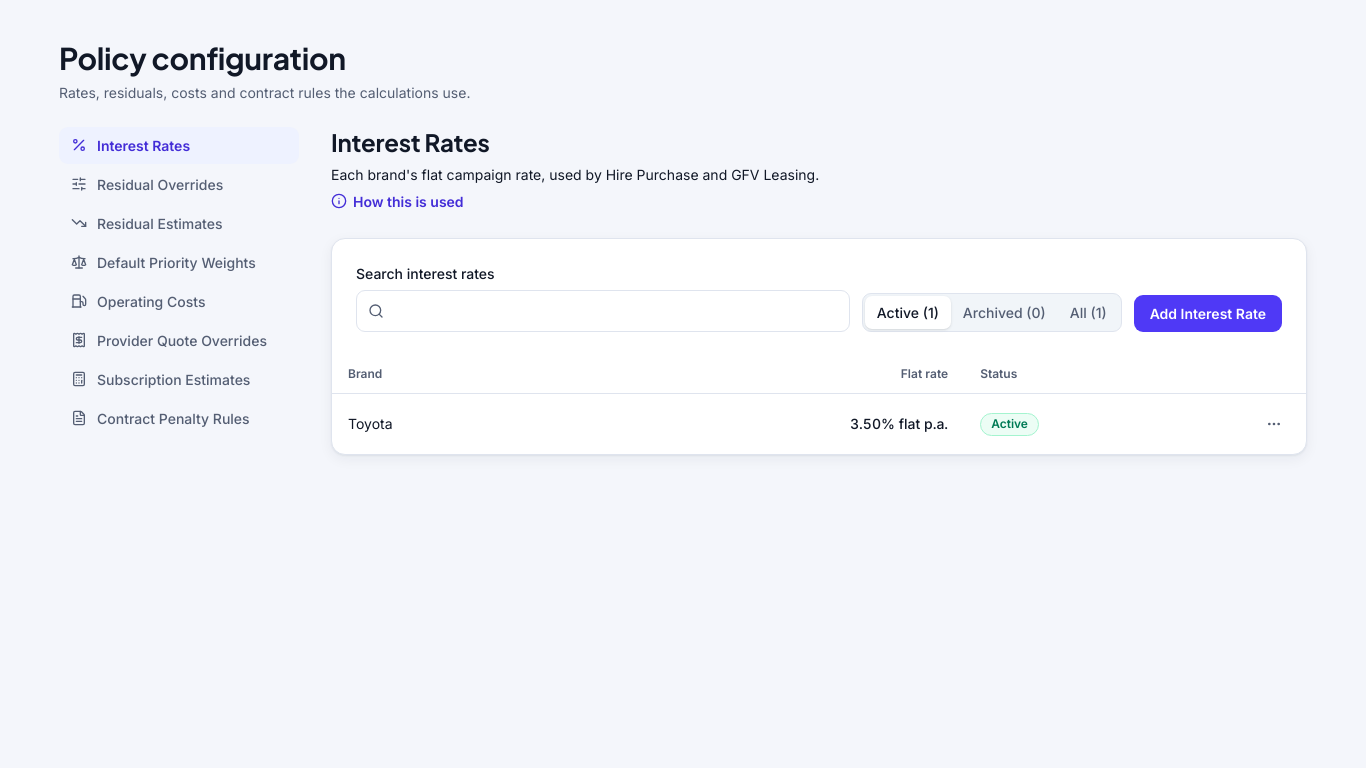
Scenario: AdminPolicyPage › on a 409 says someone else changed it and keeps the typed value
Expected: the text "3.50% flat p.a." is shown, [566, 394, 964, 454]
Redesign UI-6a: Edit is in the row's menu.
Click the button named "Actions for Toyota interest rate" at (1274, 424), box [1258, 408, 1290, 440]
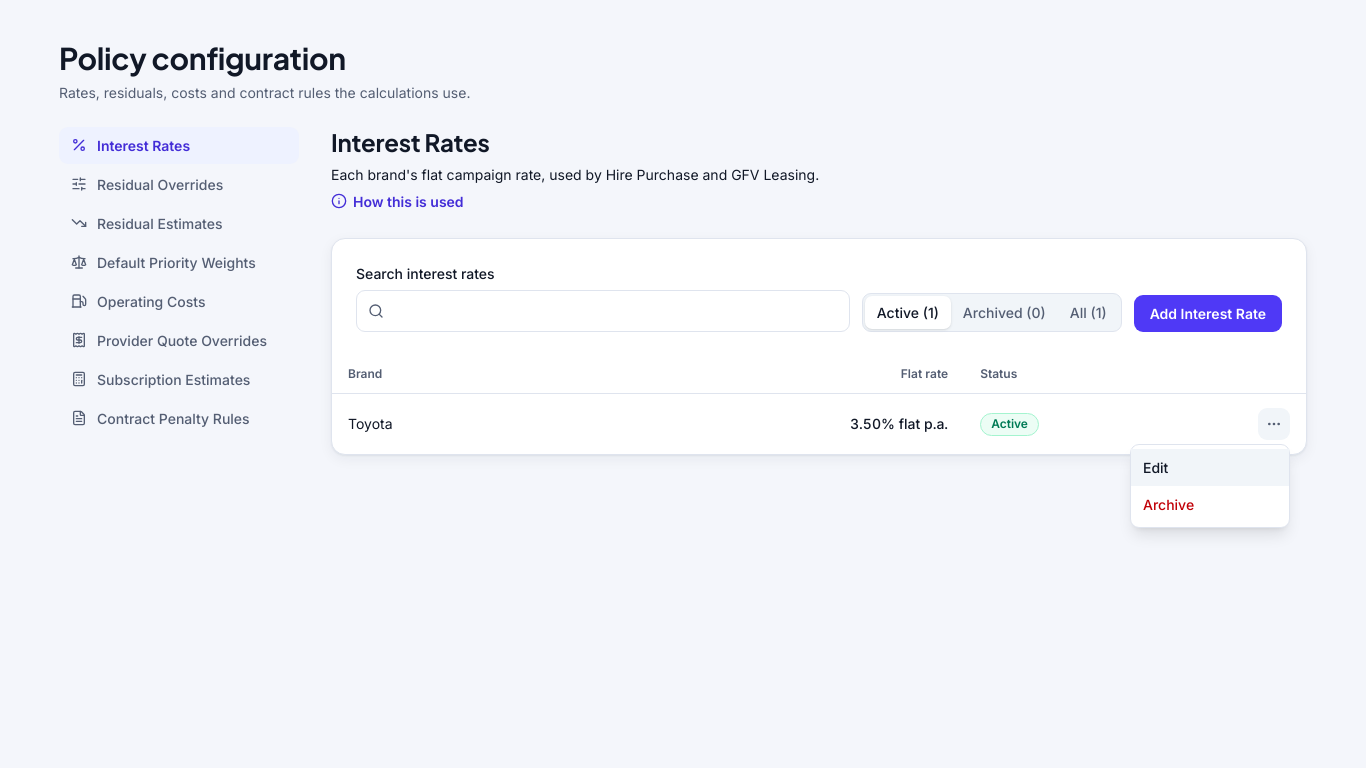
Click the menu item "Edit" at (1210, 468), box [1131, 449, 1289, 486]
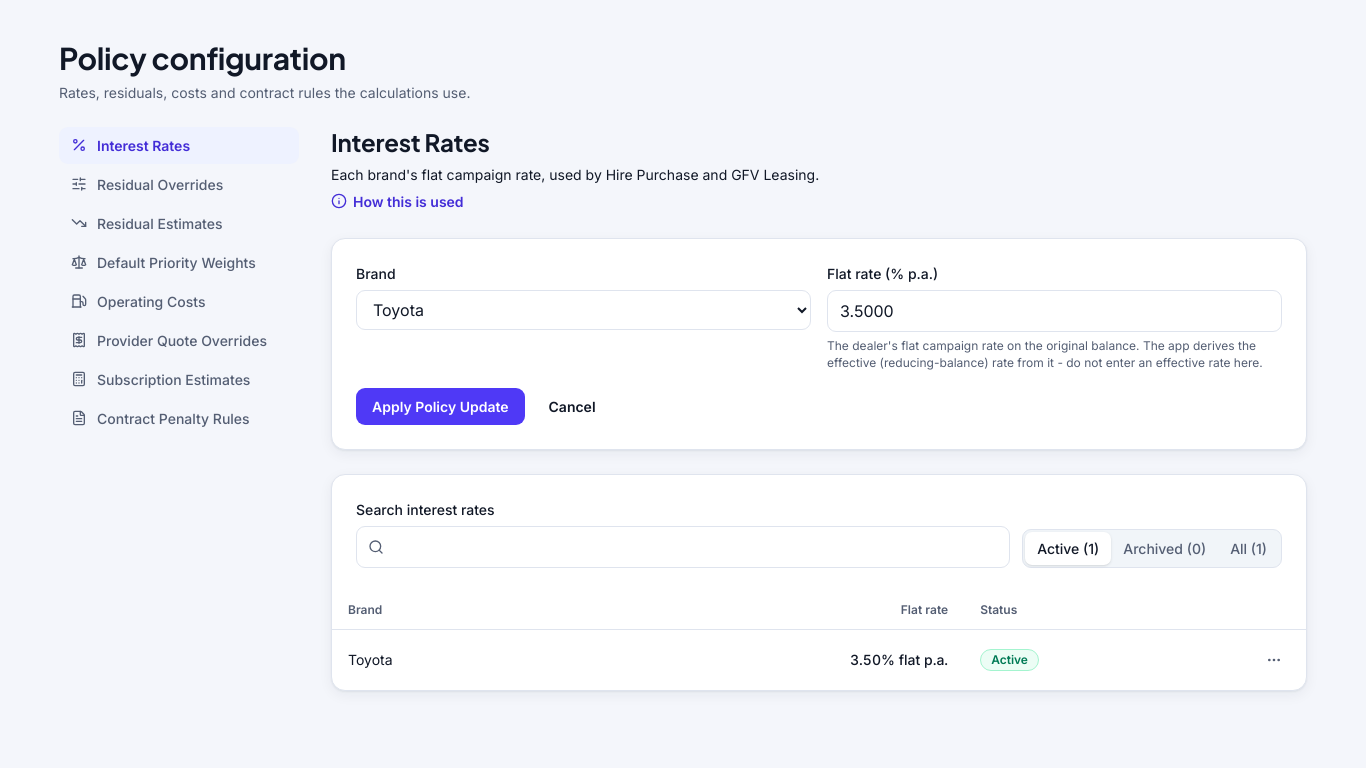
Replace the text in the field labelled "Flat rate (% p.a.)" with "2.9000" at (1054, 311), box [827, 290, 1282, 332]
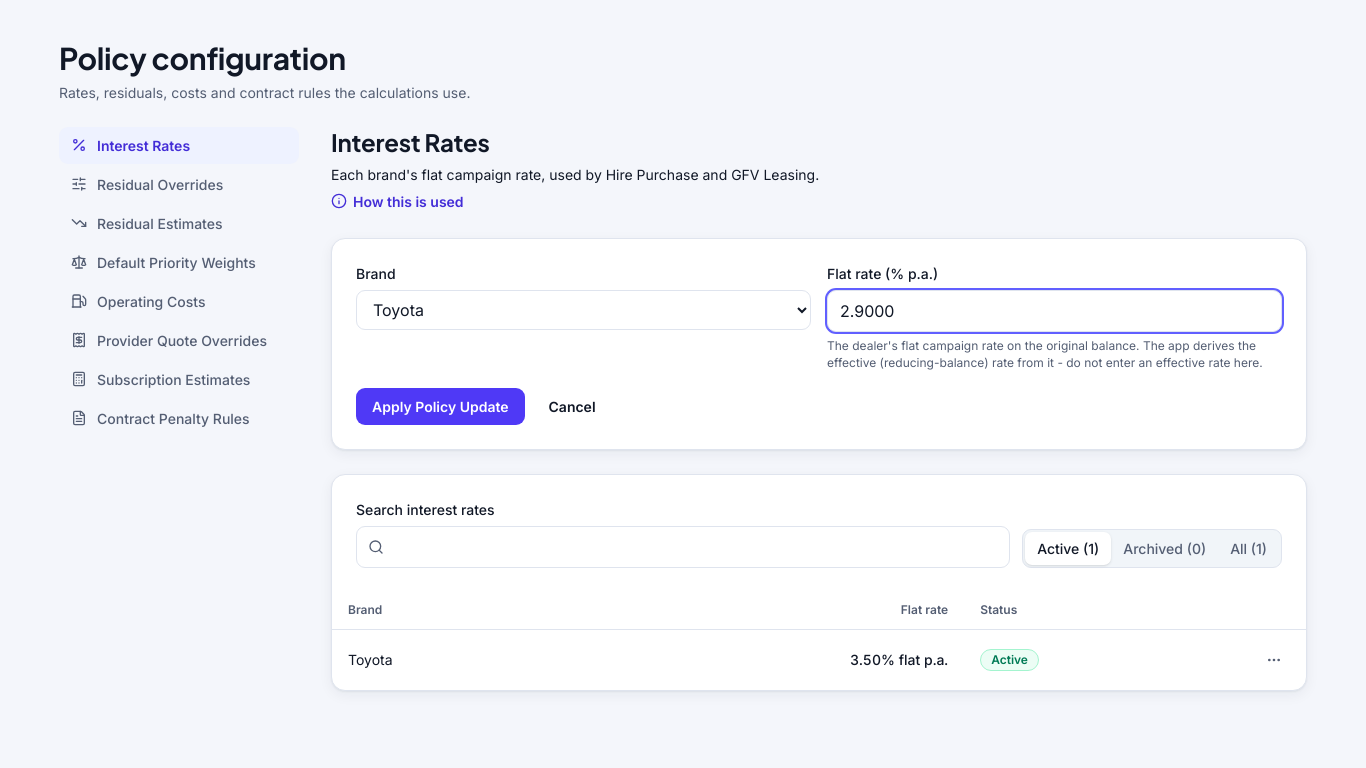
Click the button "Apply Policy Update" at (440, 406), box [356, 388, 524, 425]
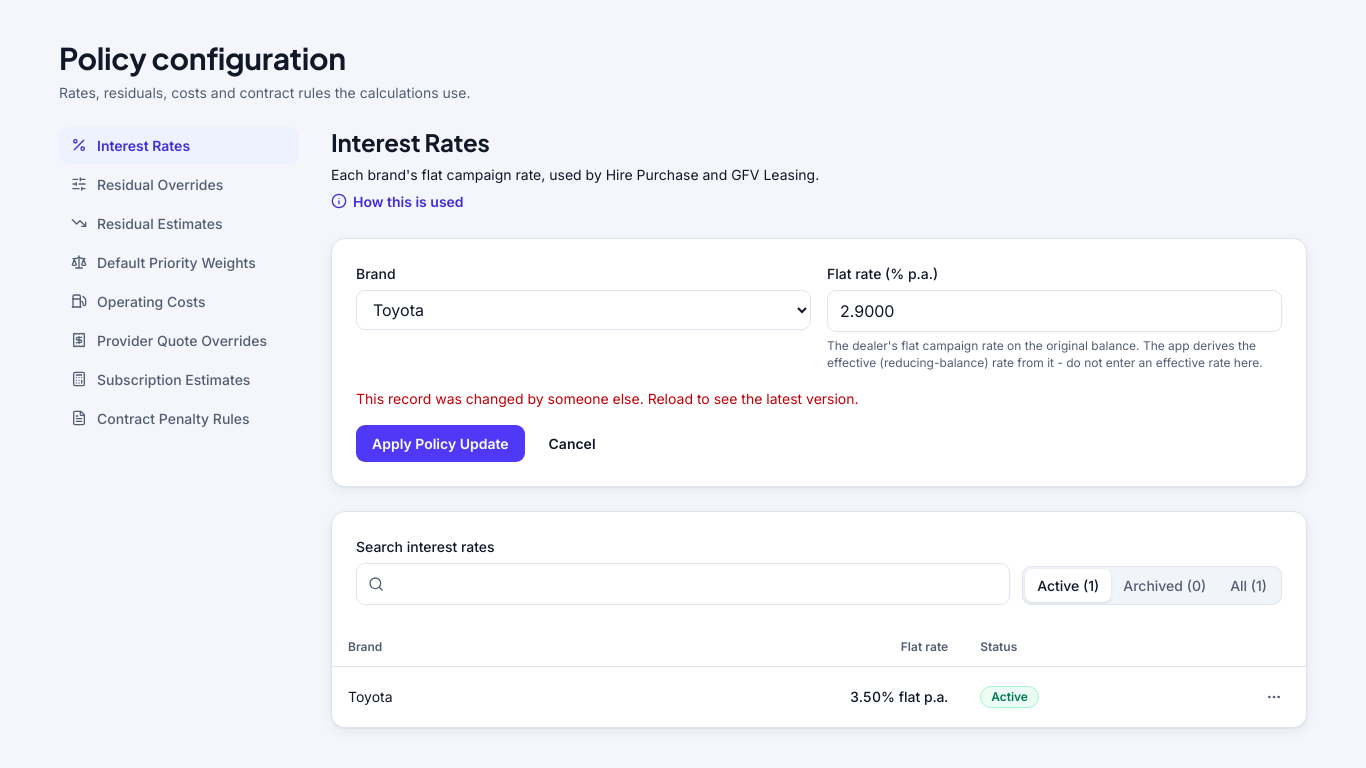
Result: the text "This record was changed by someone else. Reload to see the latest version." is shown at [356, 390, 859, 407]
